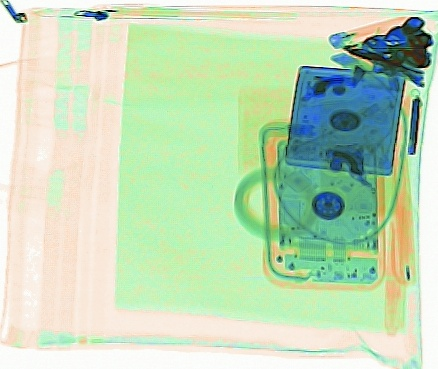lighter: (327, 12, 410, 50)
